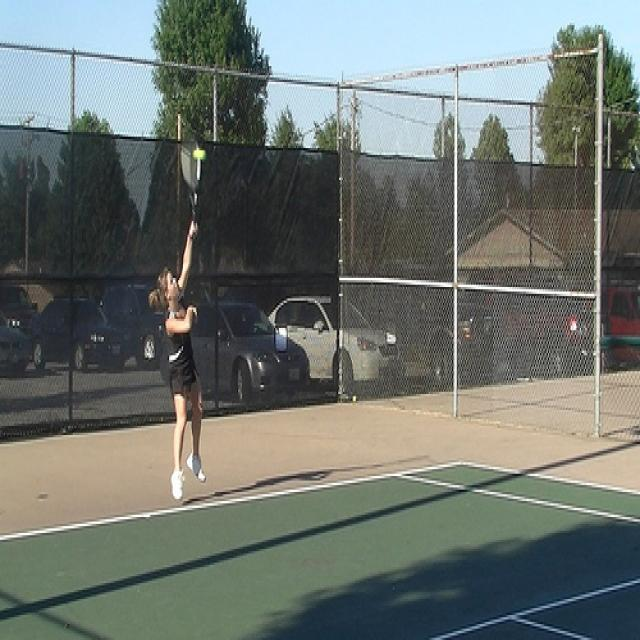Vehicle: (331, 254, 502, 366), (267, 295, 409, 394), (188, 299, 305, 403), (31, 294, 132, 380), (100, 285, 164, 371), (600, 283, 640, 377), (2, 284, 39, 336), (0, 313, 32, 372)
